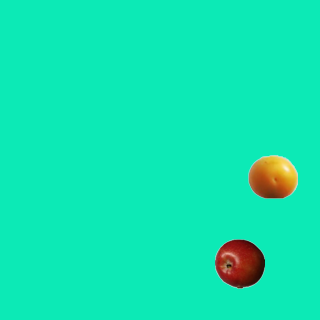Apple Braeburn: (214, 238, 264, 288)
Cherry Wax Yellow: (247, 151, 297, 201)
